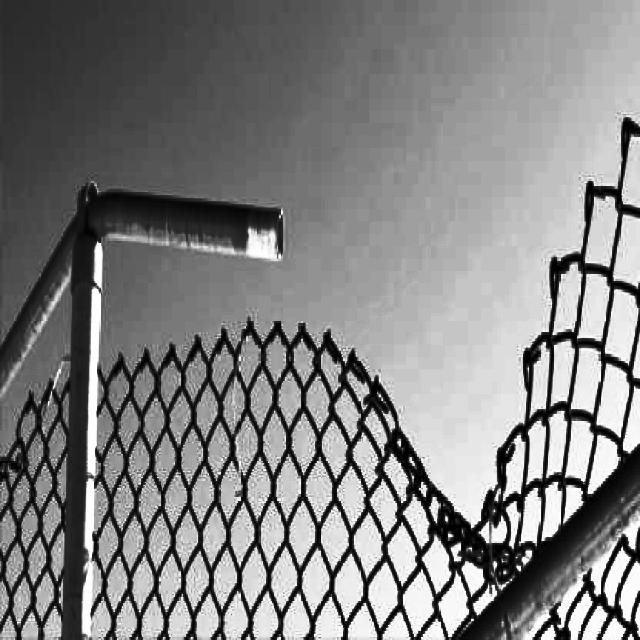anomaly-fence: (21, 111, 640, 565)
